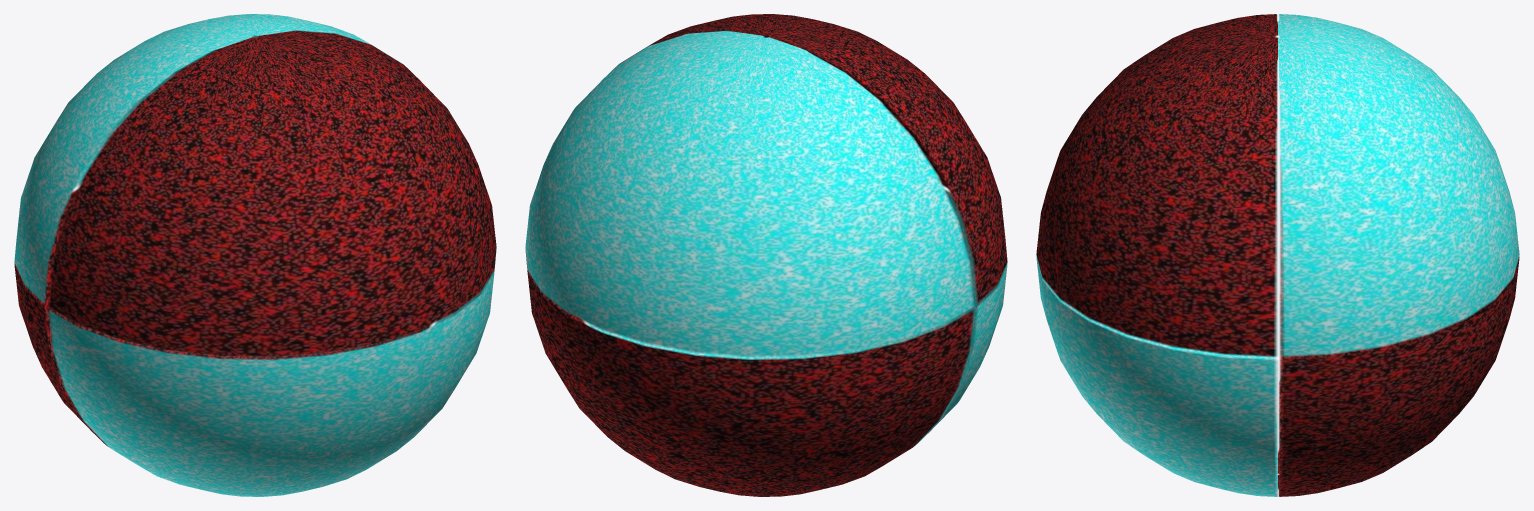
3 renders of one model, left to right at view 1: azimuth 30°, elevation 25°; view 2: azimuth 150°, elevation 25°; view 3: azimuth 270°, elevation 25°, orthographic.
Visible parts, largest first — view 1: SM_VFX_UVSphere_1m_840_LOD0; view 2: SM_VFX_UVSphere_1m_840_LOD0; view 3: SM_VFX_UVSphere_1m_840_LOD0.
Boxes of the visible parts, x1,y1,x2,y2 form: SM_VFX_UVSphere_1m_840_LOD0: (14,14,496,496); SM_VFX_UVSphere_1m_840_LOD0: (525,14,1007,496); SM_VFX_UVSphere_1m_840_LOD0: (1036,14,1519,496).
Bounding box in the file's own units: 1 × 1 × 1.
Materials: 1 (1 with a texture image).
